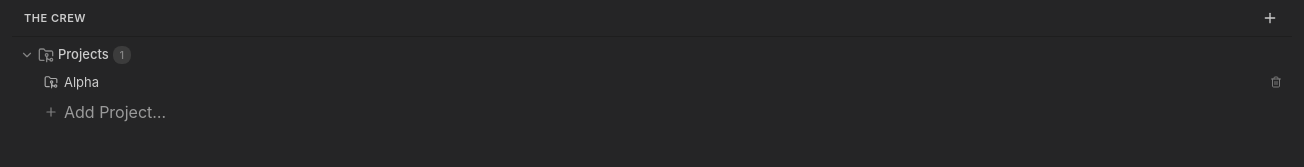
CrewSidebar › shows add-project errors and removes projects
Expected: the text "Alpha" is shown, [64, 74, 99, 90]
Step 1. Click the button "Add Project…" → (115, 112), box [20, 96, 1292, 128]
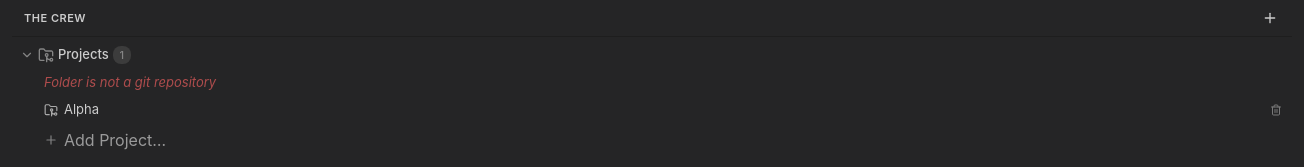
Expected: the message reads "Folder is not a git repository", [44, 74, 216, 90]
Step 2. Click the button titled "Remove project" → (1276, 110), box [1268, 102, 1284, 118]
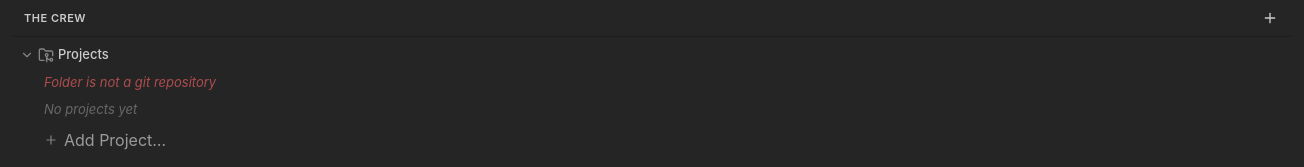
Expected: the text "No projects yet" is shown, [44, 101, 137, 117]
